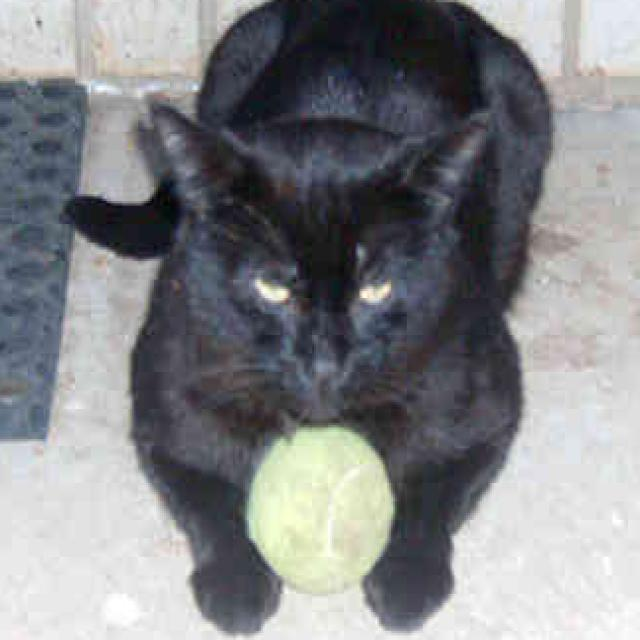Bombay: (59, 0, 557, 635)
